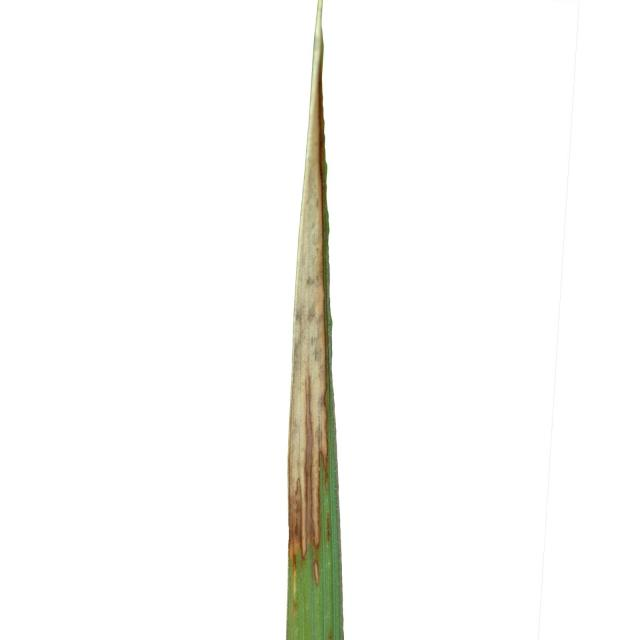Leaf scald: (167, 3, 493, 634)
